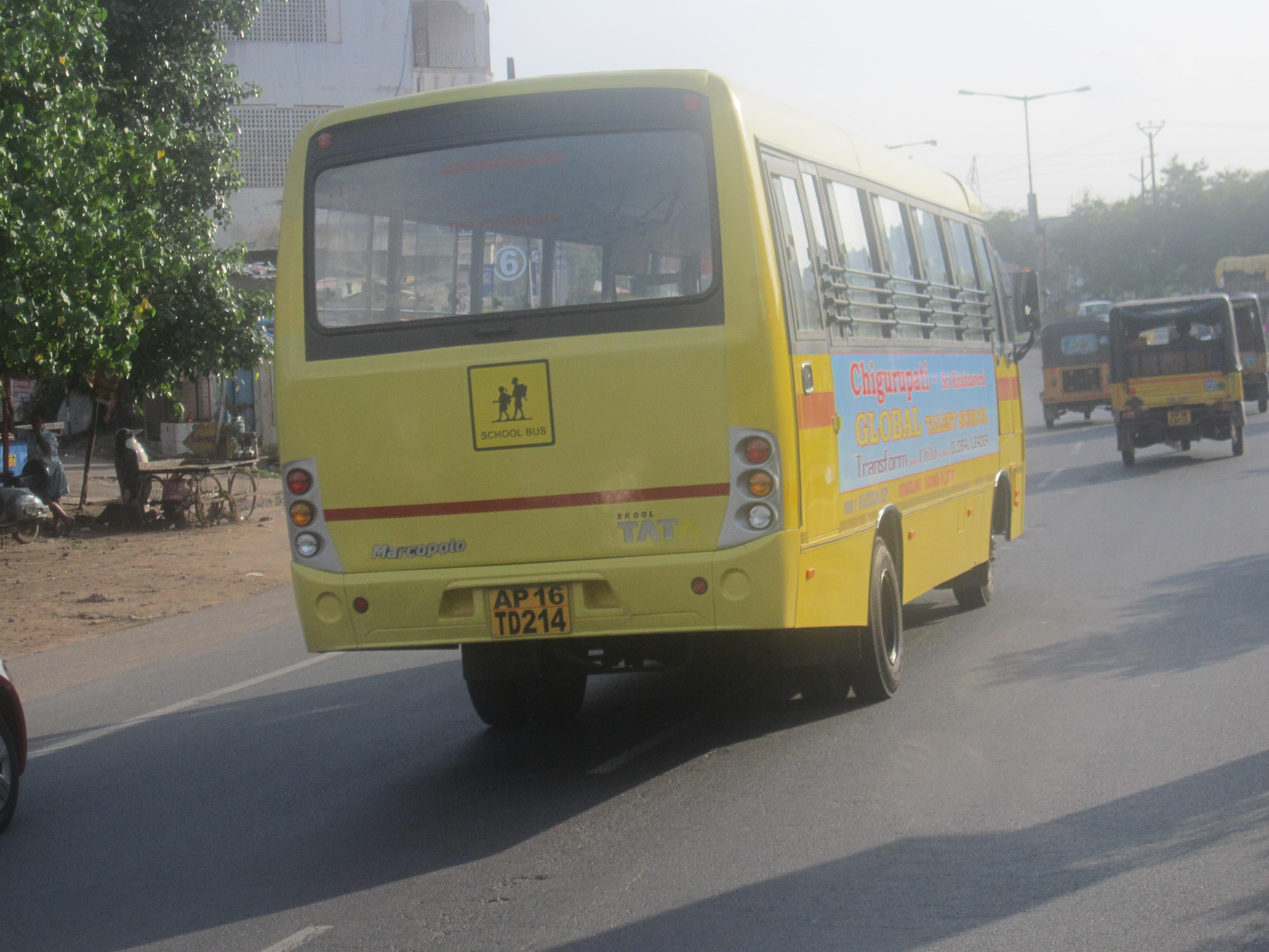Bus: (269, 69, 1039, 737)
